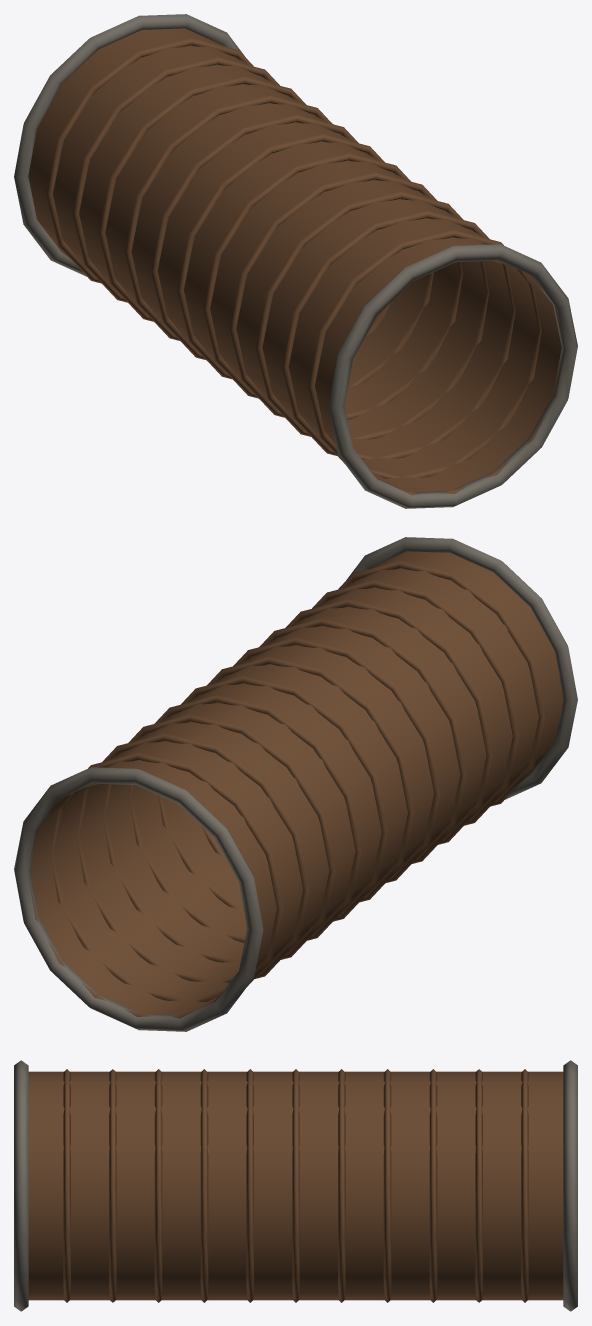
The model's file is tunnel_culvert.glb.
3 views of the same model, one above another, from view 1: azimuth 30°, elevation 25°; view 2: azimuth 150°, elevation 25°; view 3: azimuth 270°, elevation 25° (orthographic). The views are drawn at different scales.
Parts seen in each view (by area): view 1: TunnelCulvert; view 2: TunnelCulvert; view 3: TunnelCulvert.
Part boxes in pixels (<box>): TunnelCulvert: <box>14,14,577,508</box>; TunnelCulvert: <box>14,537,577,1031</box>; TunnelCulvert: <box>14,1060,577,1311</box>.
Size of the model in its own units: 3.3 by 3.3 by 7.39.
